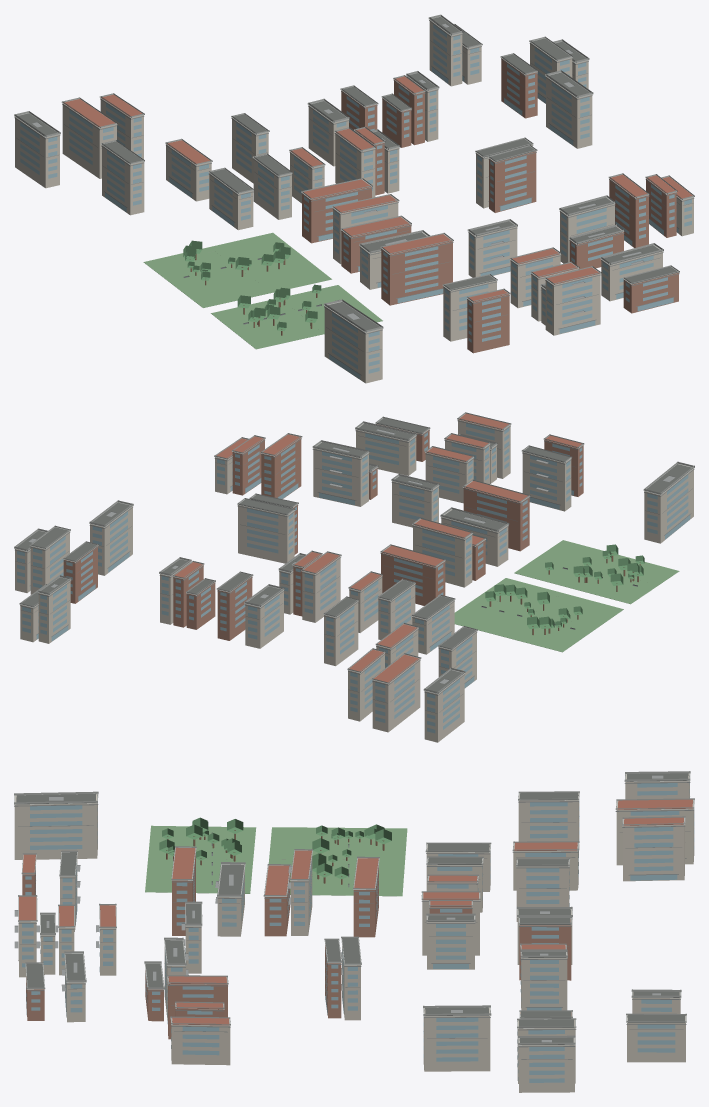
The picture shows the model from 3 angles, top to bottom: view 1: azimuth 30°, elevation 25°; view 2: azimuth 150°, elevation 25°; view 3: azimuth 270°, elevation 25°; orthographic projection. The views are drawn at different scales.
Visible parts, largest first — view 1: neighborhood-park-block-599-mesh-5, neighborhood-park-block-598-mesh-0, building-1328-mesh-58, building-1290-mesh-10, building-1379-mesh-120, building-1434-mesh-191, building-1326-mesh-53, building-1294-mesh-31, building-1295-mesh-37, building-1481-mesh-227, building-1292-mesh-21, building-1332-mesh-81 (+50 smaller); view 2: neighborhood-park-block-599-mesh-5, neighborhood-park-block-598-mesh-0, building-1433-mesh-185, building-1432-mesh-178, building-1295-mesh-37, building-1328-mesh-58, building-1290-mesh-10, building-1332-mesh-81, building-1325-mesh-47, building-1331-mesh-75, building-1294-mesh-31, building-1478-mesh-212 (+52 smaller); view 3: neighborhood-park-block-599-mesh-5, neighborhood-park-block-598-mesh-0, building-1290-mesh-10, building-1481-mesh-227, building-1296-mesh-42, building-1484-mesh-243, building-1486-mesh-255, building-1292-mesh-21, building-1480-mesh-222, building-1437-mesh-206, neighborhood-park-block-599-mesh-8, building-1335-mesh-96 (+45 smaller).
Part boxes in pixels (left/top/right/bottom): neighborhood-park-block-599-mesh-5: left=143, top=232, right=331, bottom=307; neighborhood-park-block-598-mesh-0: left=211, top=285, right=382, bottom=349; building-1328-mesh-58: left=381, top=241, right=452, bottom=305; building-1290-mesh-10: left=324, top=302, right=382, bottom=383; building-1379-mesh-120: left=545, top=274, right=600, bottom=335; building-1434-mesh-191: left=489, top=151, right=536, bottom=212; building-1326-mesh-53: left=467, top=294, right=509, bottom=353; building-1294-mesh-31: left=15, top=117, right=59, bottom=188; building-1295-mesh-37: left=62, top=103, right=116, bottom=178; building-1481-mesh-227: left=546, top=76, right=592, bottom=148; building-1292-mesh-21: left=102, top=145, right=144, bottom=215; building-1332-mesh-81: left=302, top=187, right=371, bottom=243; neighborhood-park-block-599-mesh-5: left=454, top=578, right=623, bottom=652; neighborhood-park-block-598-mesh-0: left=514, top=540, right=679, bottom=604; building-1433-mesh-185: left=238, top=505, right=294, bottom=563; building-1432-mesh-178: left=313, top=442, right=368, bottom=506; building-1295-mesh-37: left=372, top=659, right=420, bottom=732; building-1328-mesh-58: left=463, top=487, right=529, bottom=551; building-1290-mesh-10: left=644, top=464, right=693, bottom=543; building-1332-mesh-81: left=381, top=553, right=445, bottom=605; building-1325-mesh-47: left=522, top=452, right=571, bottom=511; building-1331-mesh-75: left=413, top=525, right=472, bottom=587; building-1294-mesh-31: left=424, top=674, right=464, bottom=742; building-1478-mesh-212: left=261, top=438, right=301, bottom=498; neighborhood-park-block-599-mesh-5: left=268, top=827, right=407, bottom=896; neighborhood-park-block-598-mesh-0: left=145, top=825, right=256, bottom=893; building-1290-mesh-10: left=14, top=794, right=97, bottom=859; building-1481-mesh-227: left=423, top=1008, right=490, bottom=1071; building-1296-mesh-42: left=623, top=818, right=684, bottom=881; building-1484-mesh-243: left=519, top=1038, right=574, bottom=1092; building-1486-mesh-255: left=627, top=1015, right=685, bottom=1062; building-1292-mesh-21: left=518, top=793, right=579, bottom=853; building-1480-mesh-222: left=171, top=1018, right=230, bottom=1065; building-1437-mesh-206: left=521, top=952, right=567, bottom=1010; neighborhood-park-block-599-mesh-8: left=312, top=824, right=391, bottom=879; building-1335-mesh-96: left=516, top=861, right=569, bottom=921.
Bounding box in the file's own units: 242 × 24.33 × 261.
